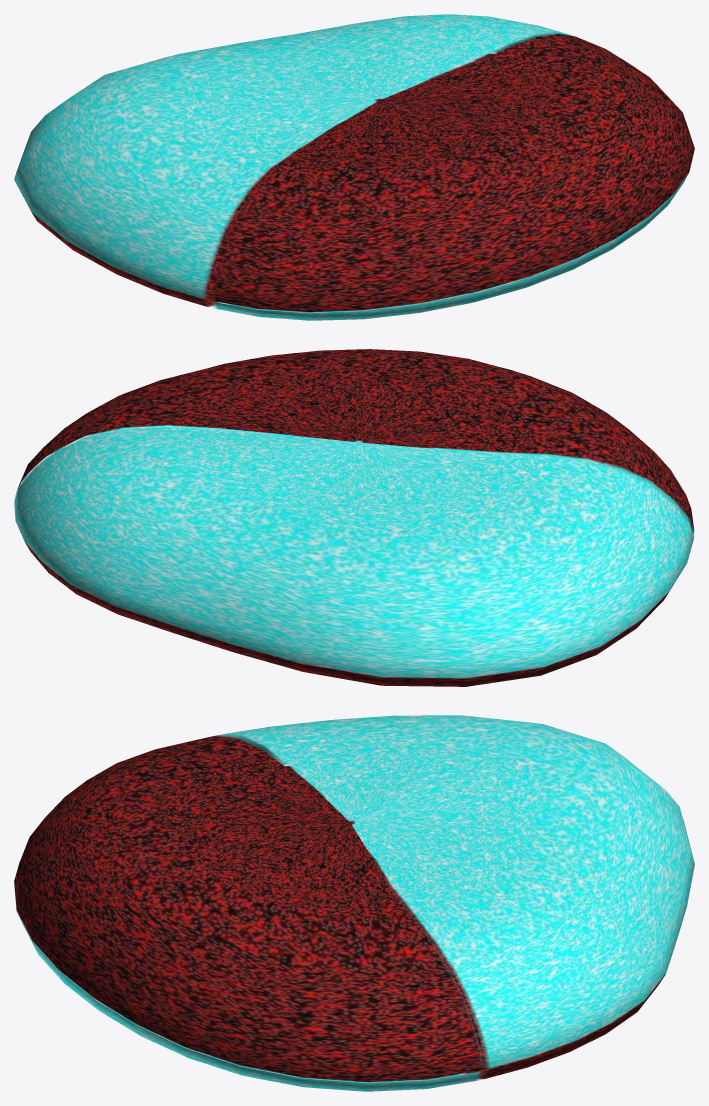
3 views of the same model, one above another, from view 1: azimuth 30°, elevation 25°; view 2: azimuth 150°, elevation 25°; view 3: azimuth 270°, elevation 25° (orthographic). The views are drawn at different scales.
Visible parts, largest first — view 1: SM_VFX_LavaGlobB_LOD0; view 2: SM_VFX_LavaGlobB_LOD0; view 3: SM_VFX_LavaGlobB_LOD0.
Boxes of the visible parts, bbox=[...] form: SM_VFX_LavaGlobB_LOD0: bbox=[14, 14, 694, 320]; SM_VFX_LavaGlobB_LOD0: bbox=[14, 349, 694, 686]; SM_VFX_LavaGlobB_LOD0: bbox=[14, 715, 694, 1091].
Bounding box in the file's own units: 10.8 × 1.88 × 9.39.
Materials: 1 (1 with a texture image).
